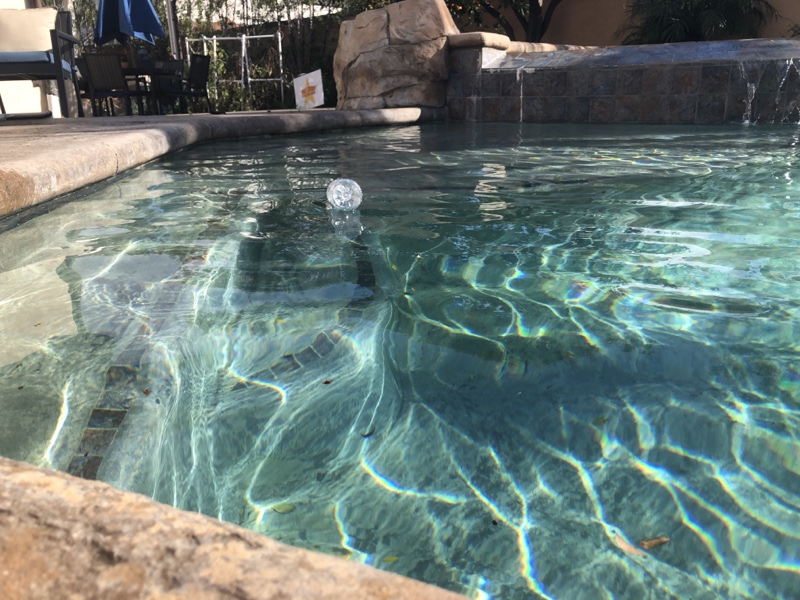Plastic Bottle: (322, 173, 365, 216)
